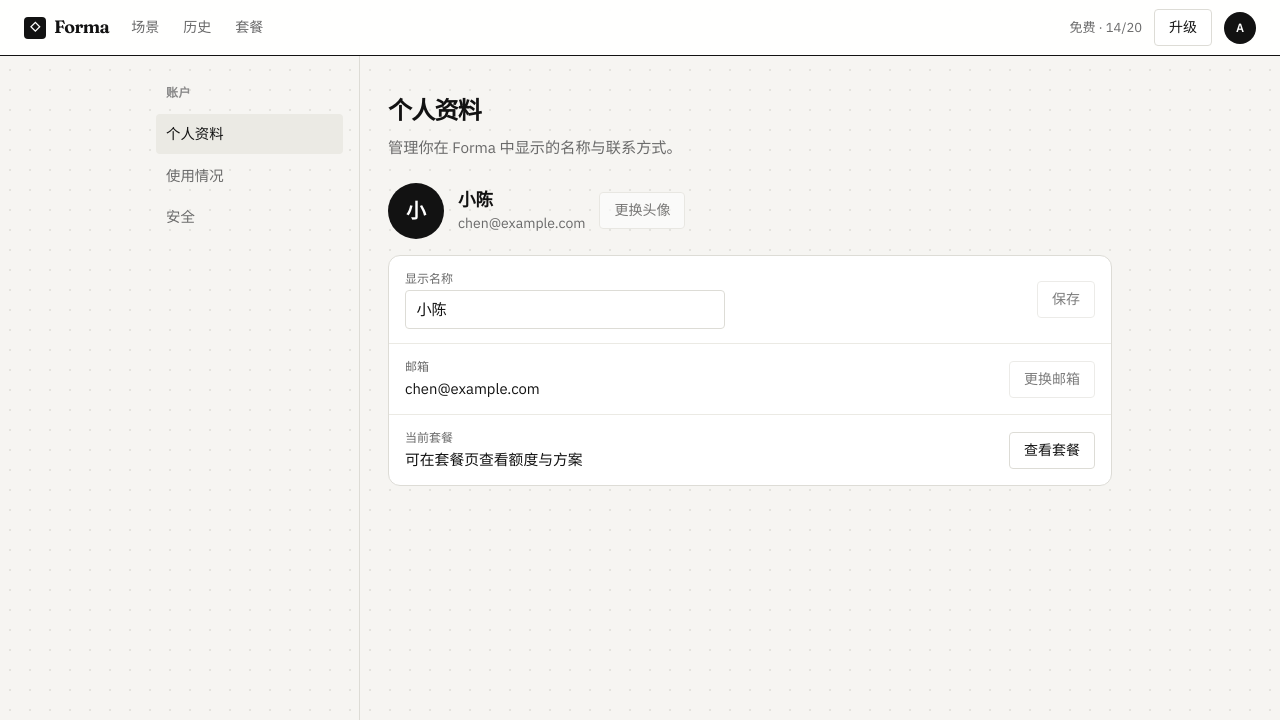
Test: AccountSettings › shows ApiError message when save fails
This screenshot has width=1280, height=720.
Replace the text in the field with id "display-name" with "占用名" at coordinates (565, 309), box [405,290,725,329]
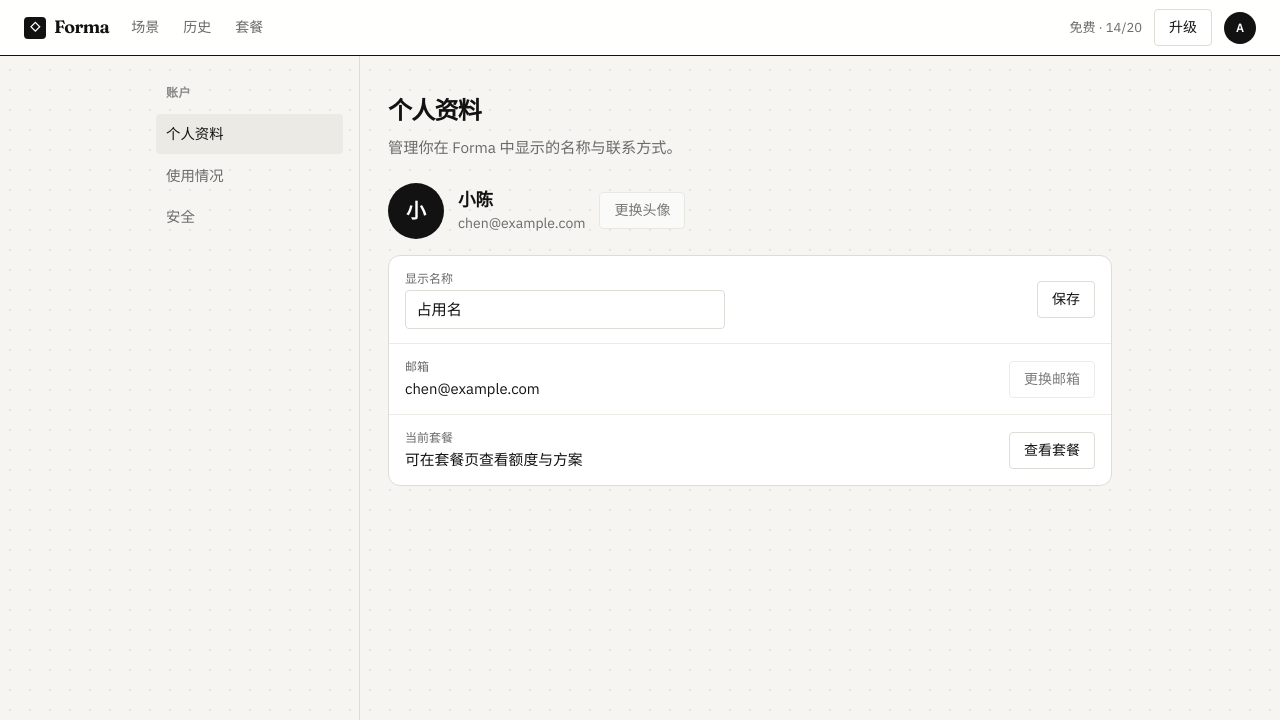
Click the button "保存" at coordinates (1066, 299), box [1037,281,1095,318]
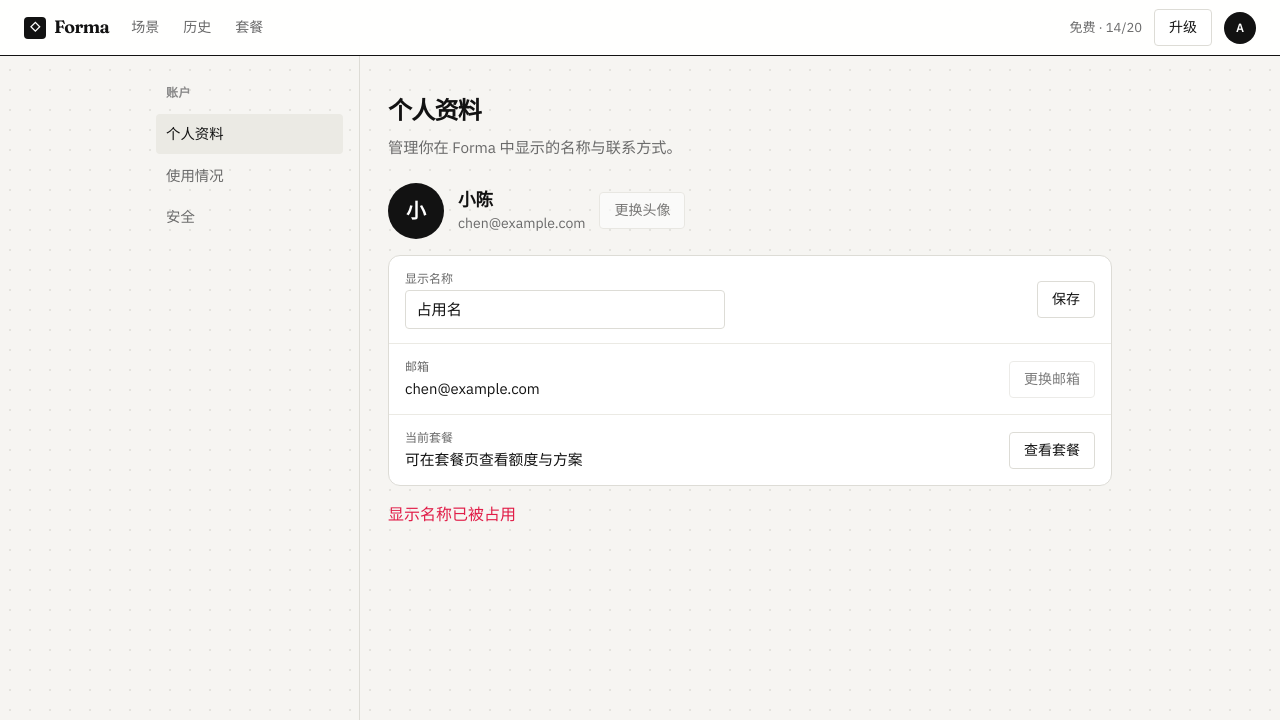
Expected: the text "显示名称已被占用" is shown, [388,504,516,524]
